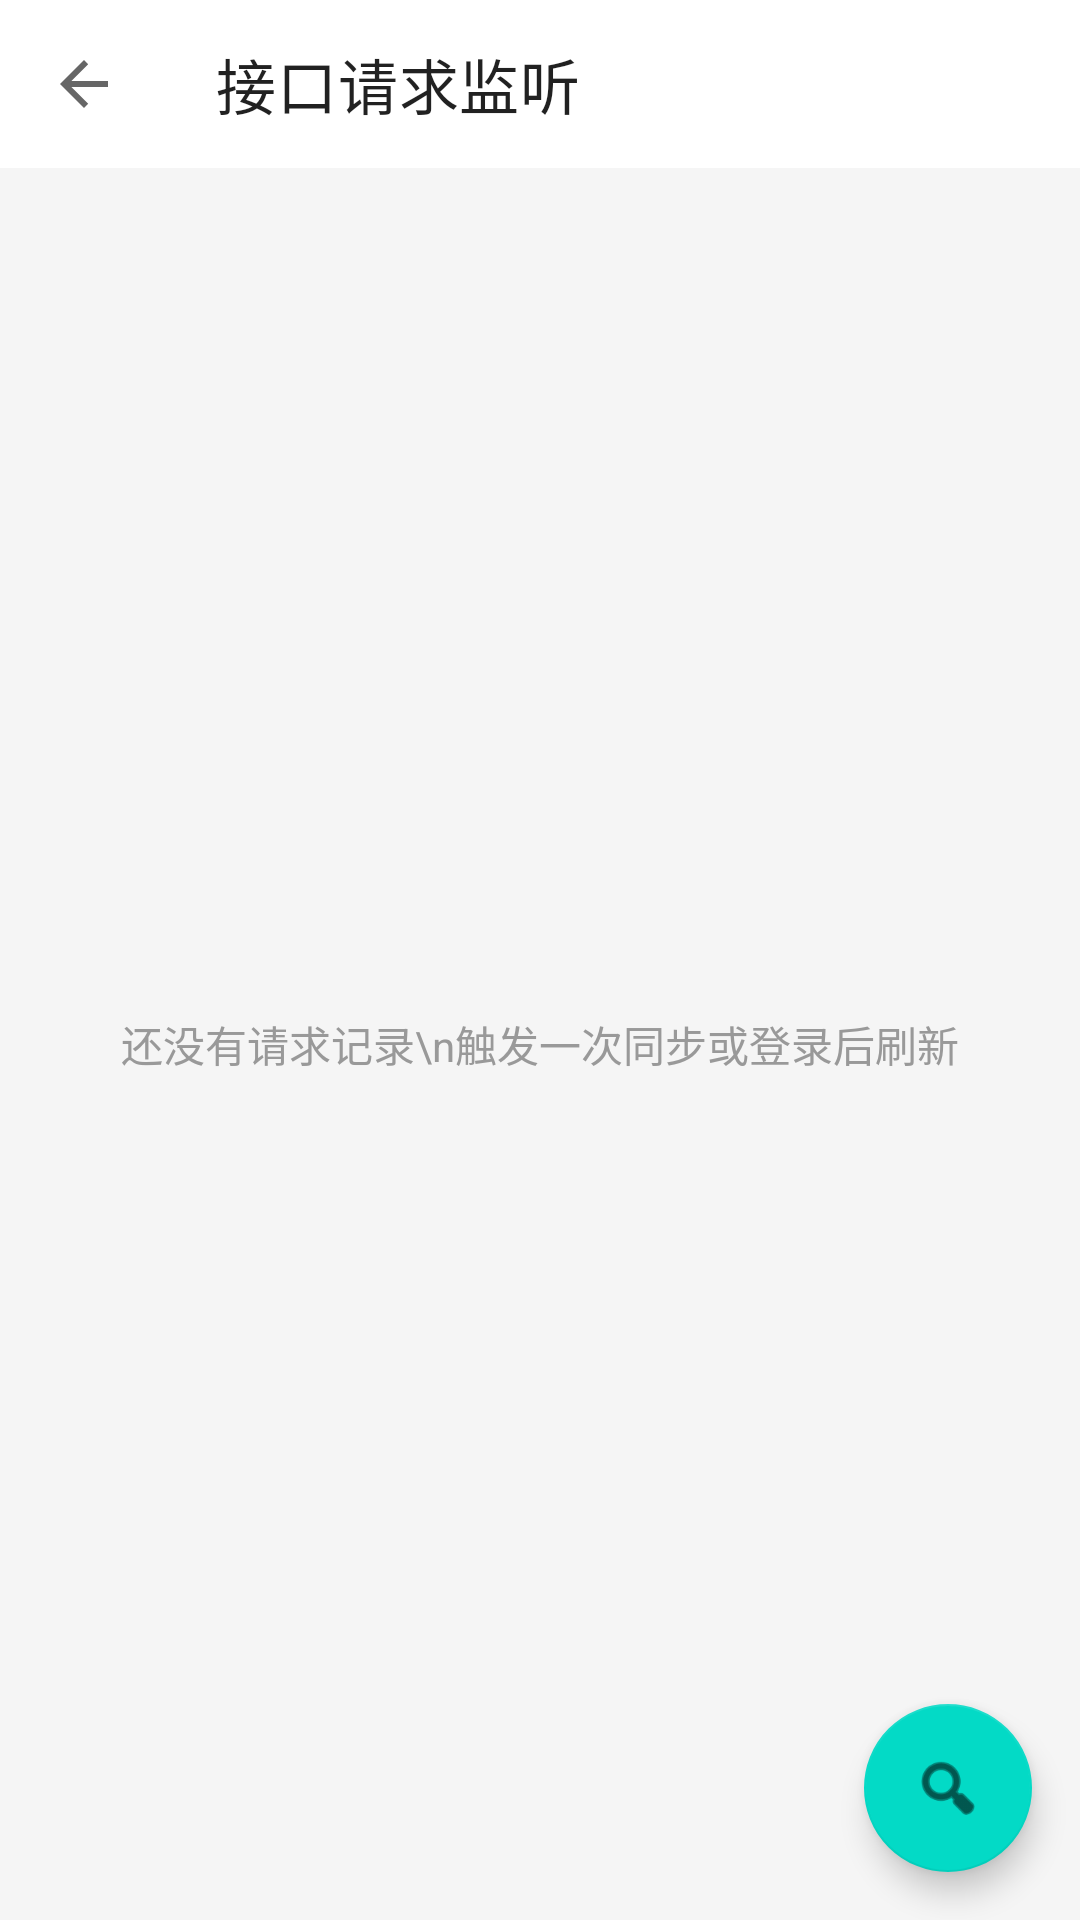

Screen size 1080 x 1920. Icon name, then its box in pixels as (x1, y1, x2, y2):
search: (864, 1704, 1032, 1872)
